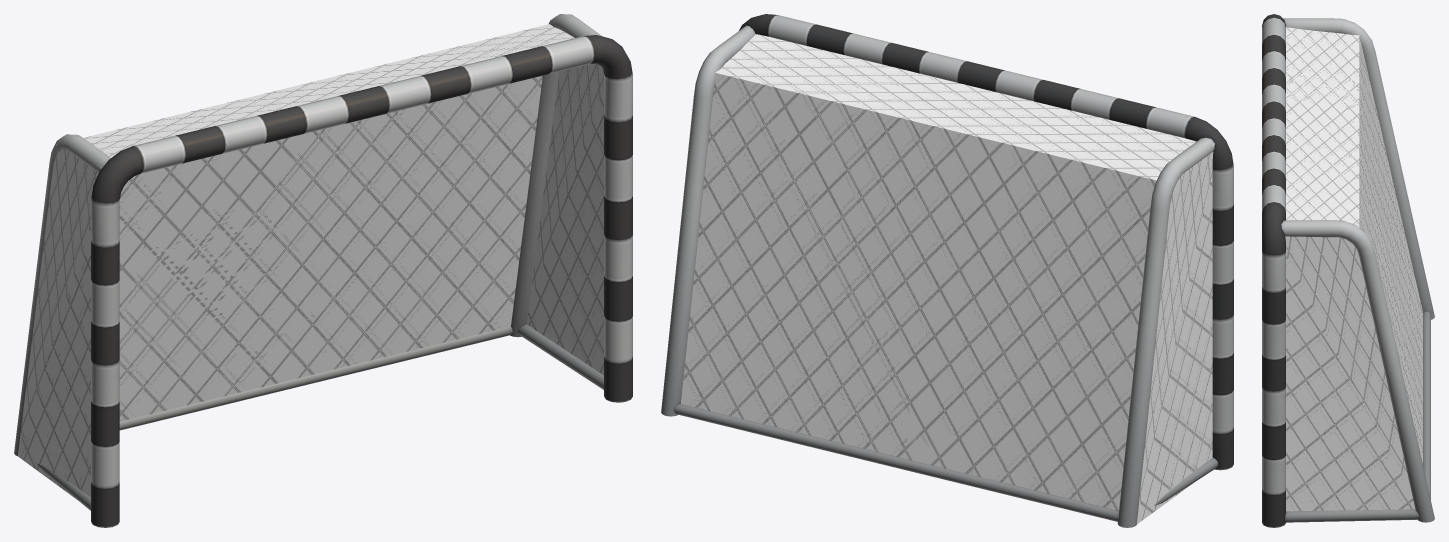
File: football_gates_2_black.fbx
The picture shows the model from 3 angles, left to right: view 1: azimuth 30°, elevation 25°; view 2: azimuth 150°, elevation 25°; view 3: azimuth 270°, elevation 25°; orthographic projection. The views are drawn at different scales.
Visible parts, largest first — view 1: goal_net, football_gates_2_black; view 2: goal_net, football_gates_2_black; view 3: goal_net, football_gates_2_black.
Boxes of the visible parts, x1,y1,x2,y2 form: goal_net: (18,24,603,499); football_gates_2_black: (14,14,632,527); goal_net: (681,34,1214,524); football_gates_2_black: (661,14,1233,527); goal_net: (1285,27,1422,511); football_gates_2_black: (1262,14,1434,527).
Bounding box in the file's own units: 330 × 215 × 109.
